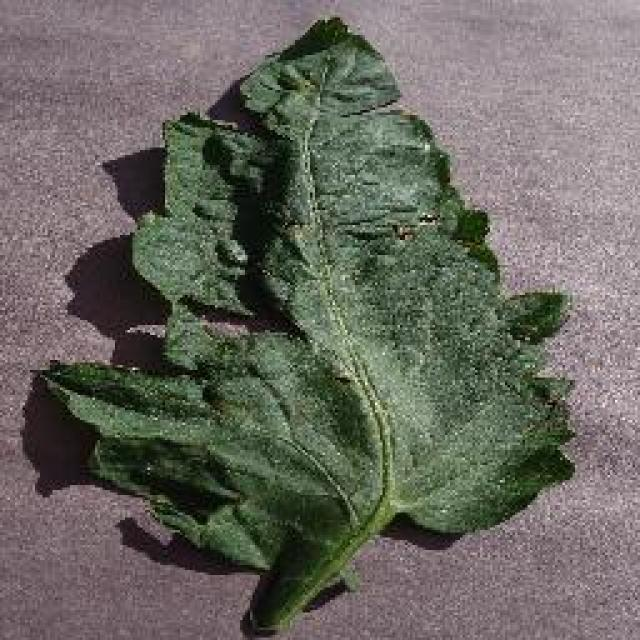Tom_Target_Spot: (165, 243, 316, 385), (371, 190, 449, 260)
